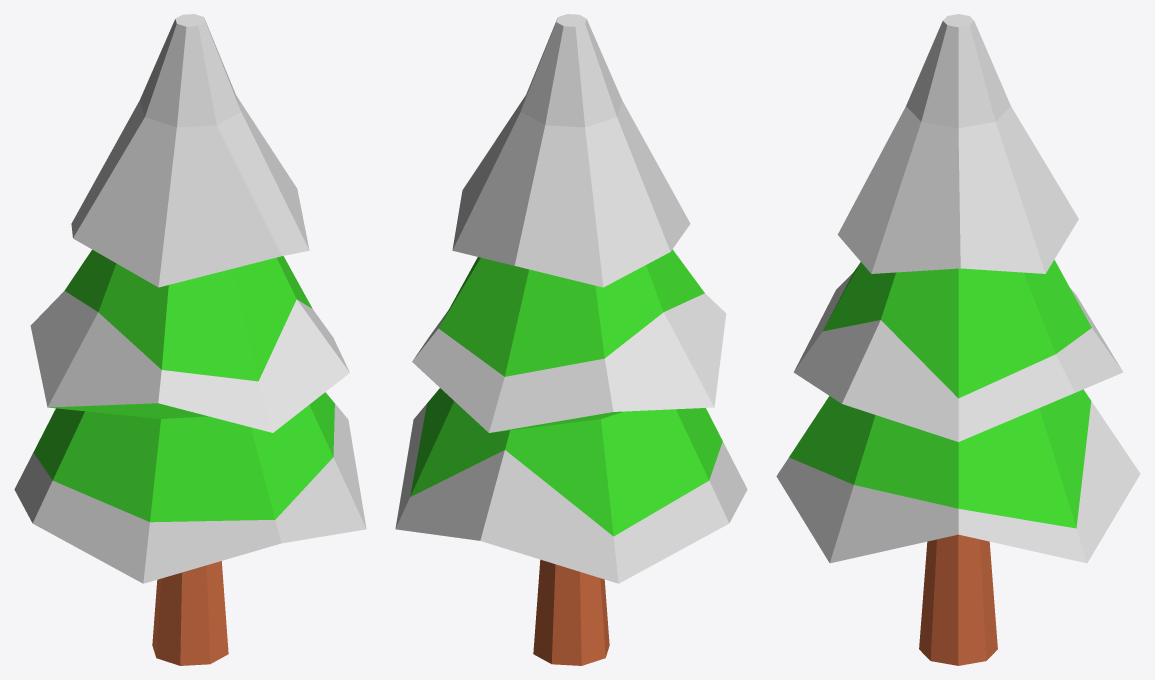
The model's file is tree.fbx.
The picture shows the model from 3 angles, left to right: view 1: azimuth 30°, elevation 25°; view 2: azimuth 150°, elevation 25°; view 3: azimuth 270°, elevation 25°; orthographic projection.
Visible parts, largest first — view 1: Circle; view 2: Circle; view 3: Circle.
Boxes of the visible parts, x1,y1,x2,y2 form: Circle: [14, 14, 366, 665]; Circle: [395, 14, 747, 665]; Circle: [776, 14, 1140, 665].
Bounding box in the file's own units: 923 × 1758 × 923.
